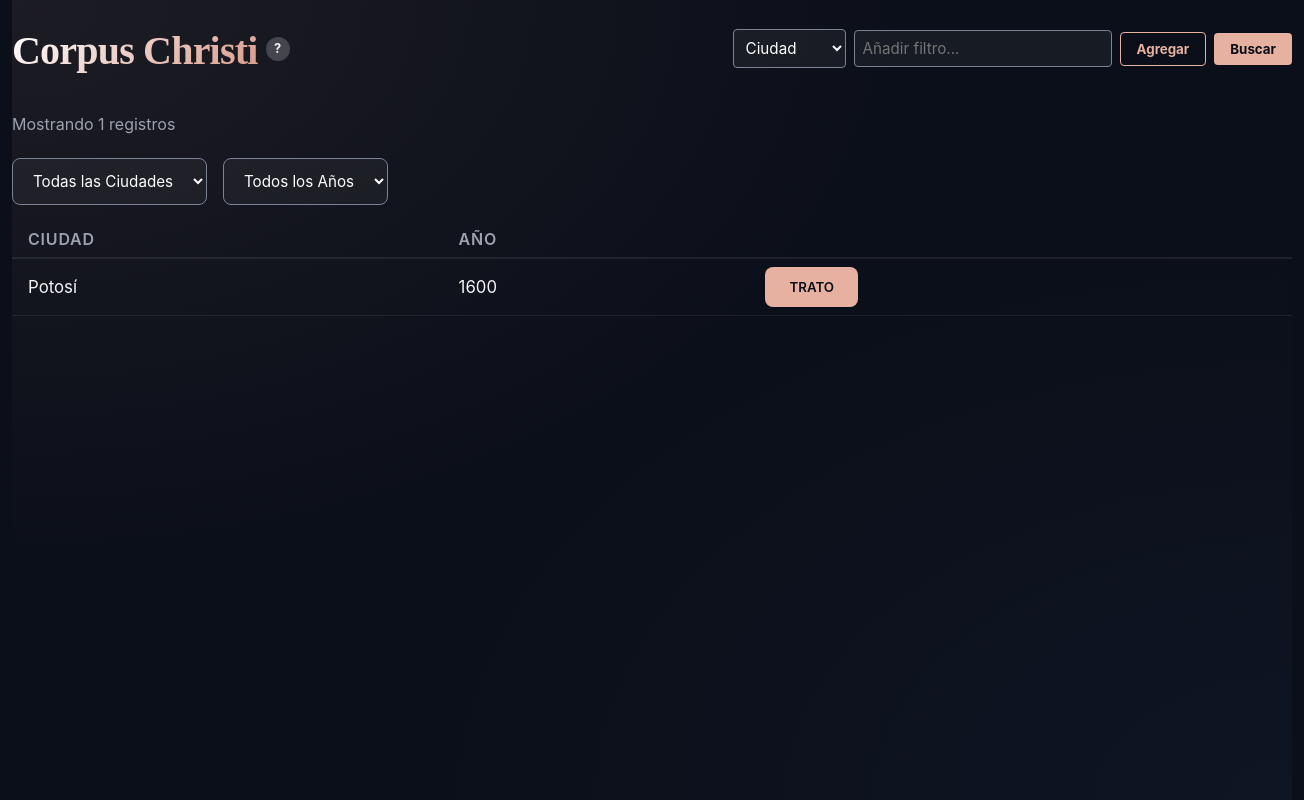
Test: Corpus Christi: sigla en vez de número de registro › una compañía con sigla vacía muestra su nombre, o «Compañía sin sigla», nunca el número
The image size is (1304, 800).
Click the button "TRATO" at (812, 287), box [765,267,858,307]
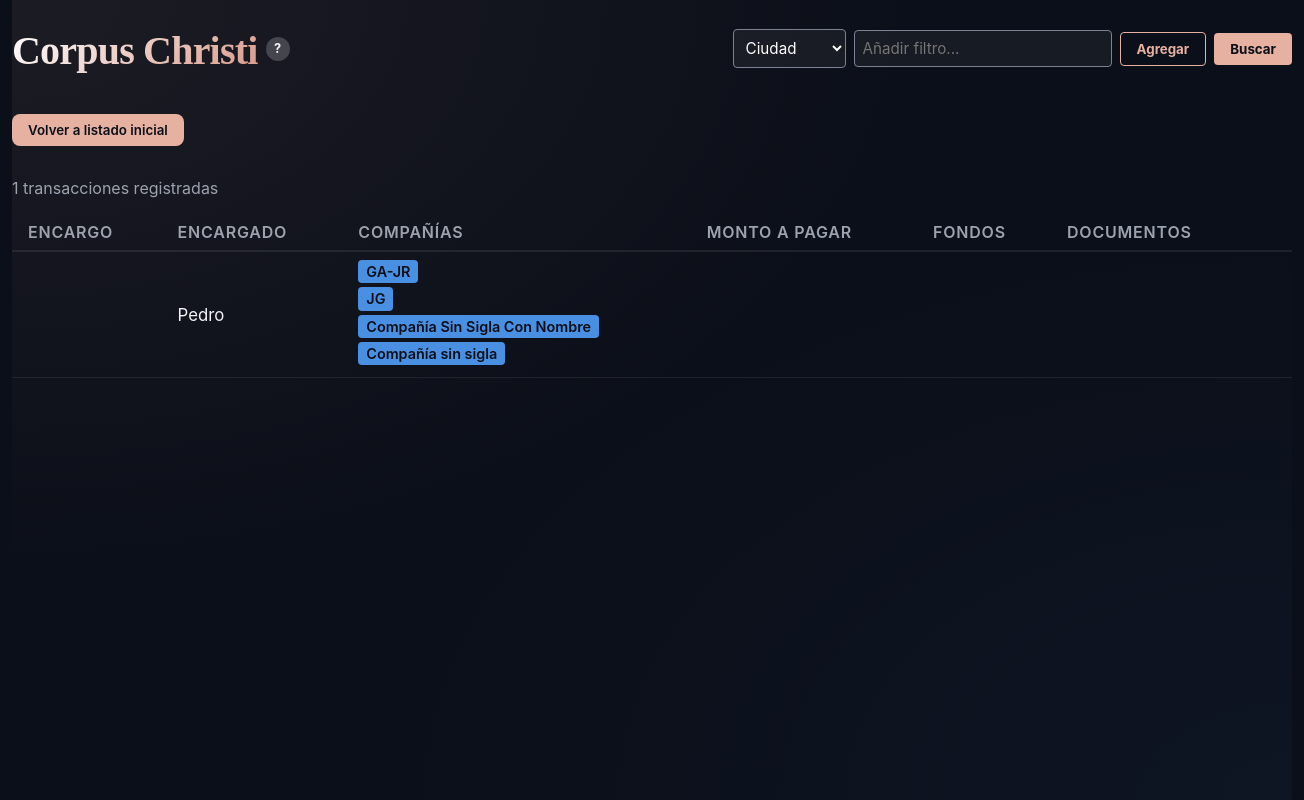
Expected: the button "Compañía Sin Sigla Con Nombre" is shown, [358,314,599,338]
Expected: the button "Compañía sin sigla" is shown, [358,342,505,365]
